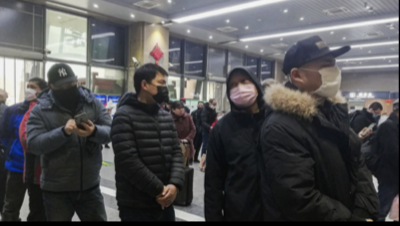with_mask: (305, 56, 341, 98), (227, 76, 257, 106), (50, 81, 78, 103), (149, 76, 169, 103), (23, 81, 38, 99), (371, 109, 381, 118), (216, 113, 223, 120), (210, 101, 216, 109)
without_mask: (175, 105, 184, 115)
